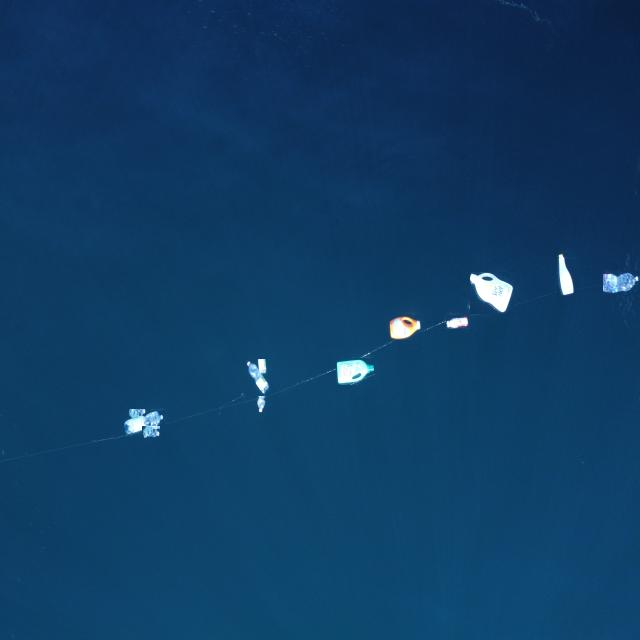bottles: (470, 272, 514, 314), (124, 409, 164, 436), (336, 358, 375, 385), (603, 270, 640, 295), (246, 359, 270, 396), (389, 314, 421, 339), (557, 252, 575, 296), (256, 380, 268, 414), (446, 315, 469, 329), (142, 426, 160, 439)
